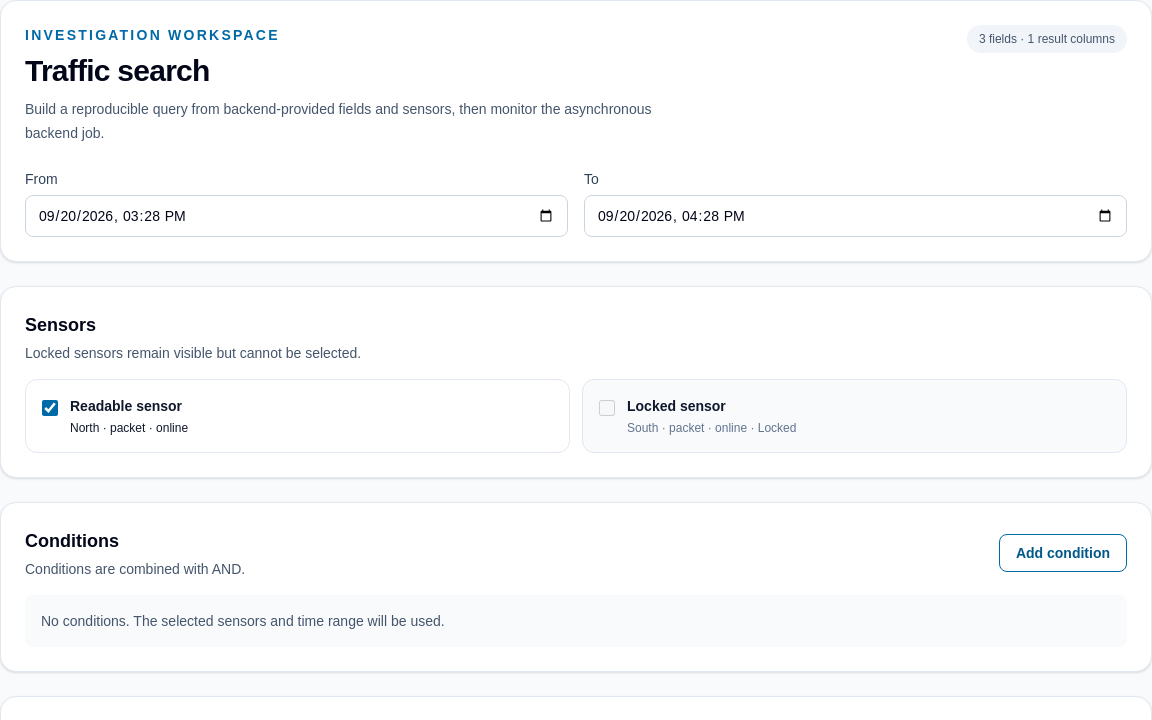
Test: SearchBuilder › blocks invalid local state instead of changing the URL
Click the checkbox labelled "Readable sensor North · packet · online". click: (50, 408)
box: left=42, top=400, right=58, bottom=416
(page scrolled)
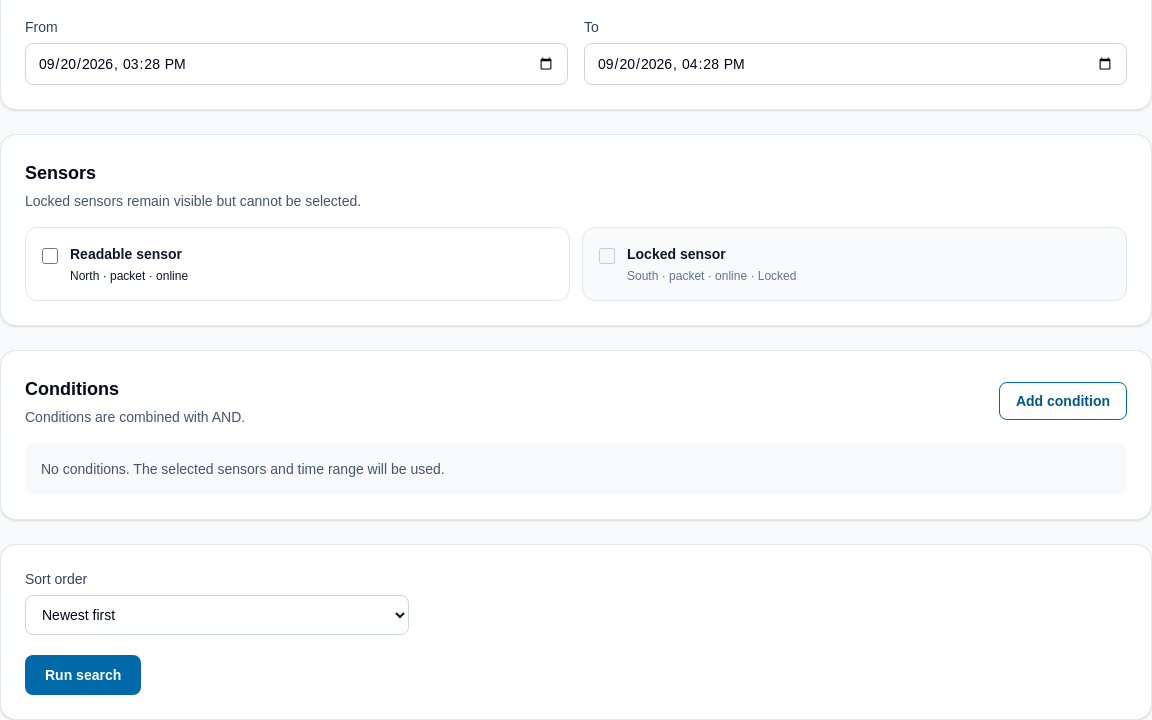
Click the button "Run search". click: (83, 675)
box: left=25, top=655, right=141, bottom=695
(page scrolled)
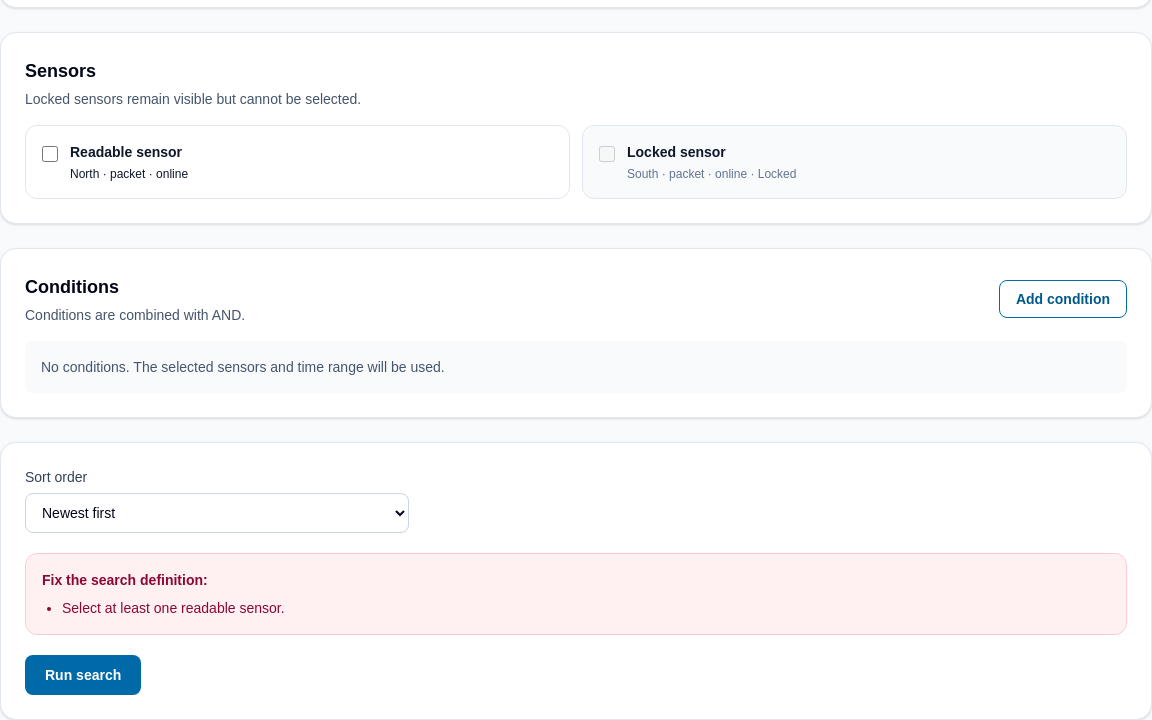
Result: the message shows "Select at least one readable sensor." at left=62, top=600, right=285, bottom=616
